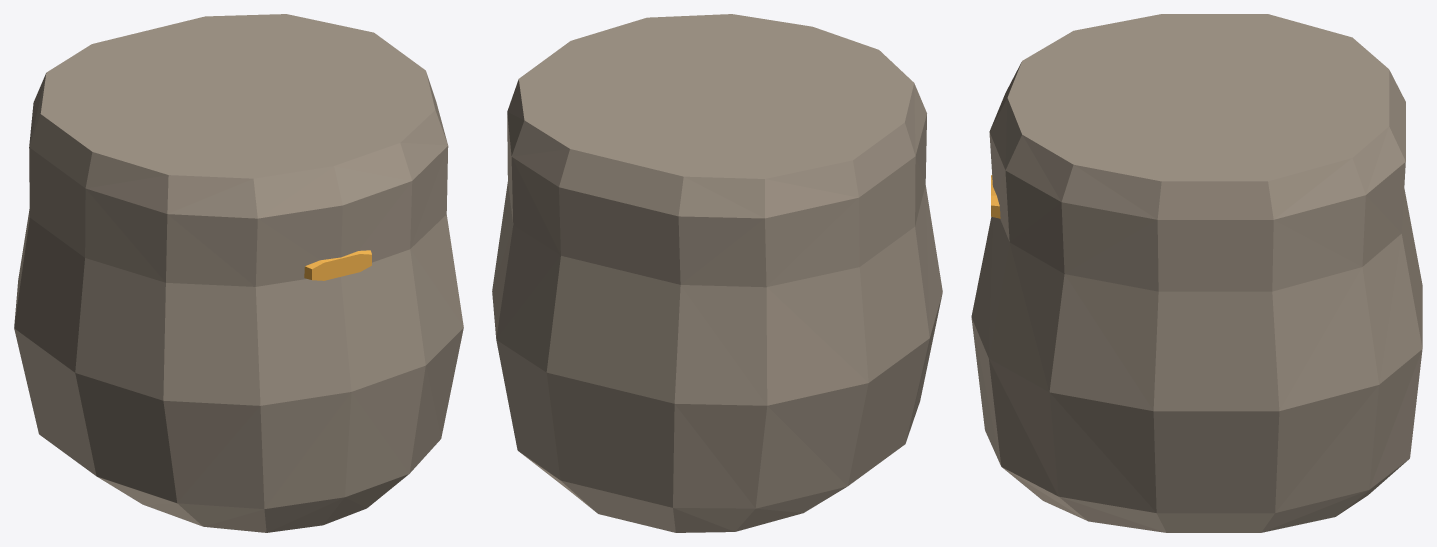
The model's file is pauldron_light.glb.
3 renders of one model, left to right at view 1: azimuth 30°, elevation 25°; view 2: azimuth 150°, elevation 25°; view 3: azimuth 270°, elevation 25°, orthographic. The views are drawn at different scales.
Parts seen in each view (by area): view 1: pauldron_light; view 2: pauldron_light; view 3: pauldron_light.
Boxes of the visible parts, bbox=[...] form: pauldron_light: bbox=[14, 14, 463, 532]; pauldron_light: bbox=[492, 14, 942, 532]; pauldron_light: bbox=[971, 14, 1422, 532].
Bounding box in the file's own units: 1.07 × 1 × 1.08.
